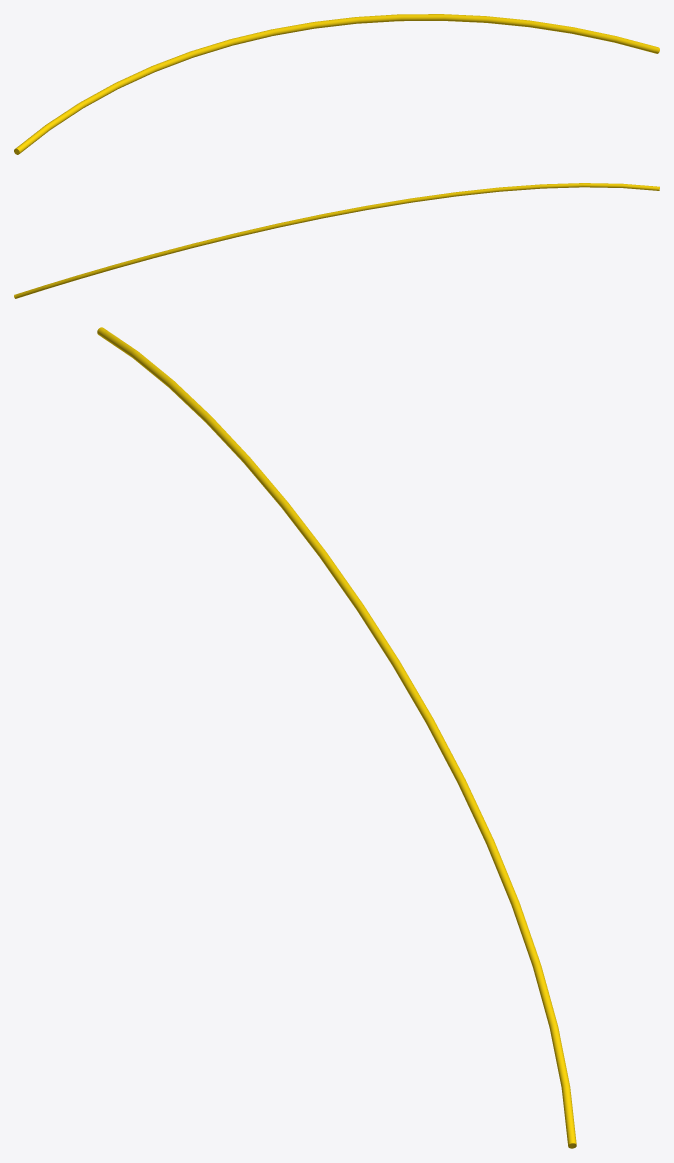
The model's file is Event_421115418_track_26.fbx.
3 renders of one model, top to bottom at view 1: azimuth 30°, elevation 25°; view 2: azimuth 150°, elevation 25°; view 3: azimuth 270°, elevation 25°, orthographic. The views are drawn at different scales.
Visible parts, largest first — view 1: Model; view 2: Model; view 3: Model.
Boxes of the visible parts, x1=… form: Model: x1=14, y1=14, x2=659, y2=154; Model: x1=14, y1=183, x2=659, y2=298; Model: x1=97, y1=327, x2=576, y2=1148.
Bounding box in the file's own units: 5.6 × 1.58 × 2.2.
